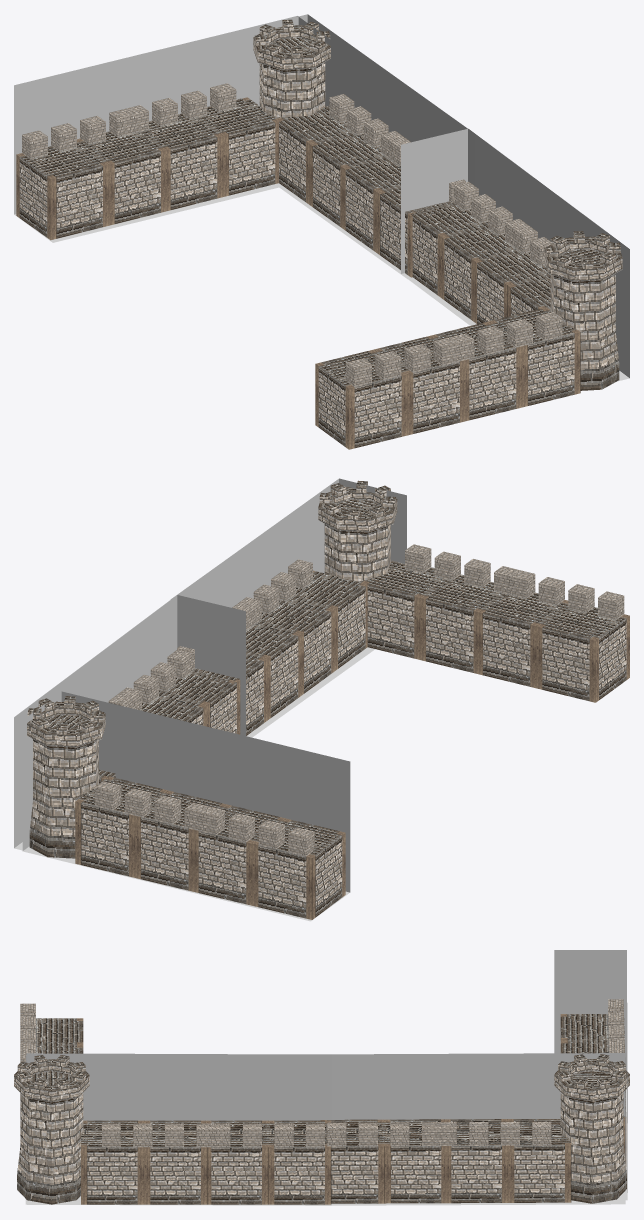
Rendered from wall_large_tower_Uglb.glb.
The picture shows the model from 3 angles, top to bottom: view 1: azimuth 30°, elevation 25°; view 2: azimuth 150°, elevation 25°; view 3: azimuth 270°, elevation 25°; orthographic projection. The views are drawn at different scales.
Visible parts, largest first — view 1: Wall_Tower-colonly.002, Wall_Tower-colonly.001, Wall_Tower-colonly.003, Wall_Right_1.002, Wall_Left_0.001, Tower_Base, Wall_Right_1.003, Wall_Right_0.003, Wall_Right_0.002, Wall_Left_1, Wall_Left_0, Wall_Left_1.001 (+24 smaller); view 2: Wall_Tower-colonly.002, Wall_Tower-colonly.003, Wall_Tower-colonly.001, Wall_Left_0.001, Wall_Right_1.002, Tower_Base.001, Wall_Left_0, Wall_Left_1.001, Wall_Left_1, Wall_Right_0.003, Wall_Right_0.002, Wall_Right_1.003 (+23 smaller); view 3: Wall_Tower-colonly.001, Wall_Tower-colonly.003, Tower_Base, Tower_Base.001, Wall_Tower-colonly.002, Wall_Right_0, Wall_Right_1, Wall_Left_1.003, Wall_Right_1.001, Wall_Left_0.003, Wall_Left_1.002, Wall_Right_0.001 (+23 smaller).
Part boxes in pixels (x1,y1,x2,y2): Wall_Tower-colonly.002: (14,16,336,242); Wall_Tower-colonly.001: (401,129,629,381); Wall_Tower-colonly.003: (241,14,474,279); Wall_Right_1.002: (16,142,108,240); Wall_Left_0.001: (315,349,407,449); Tower_Base: (550,249,619,390); Wall_Right_1.003: (139,113,222,211); Wall_Right_0.003: (197,97,280,196); Wall_Right_0.002: (77,131,166,225); Wall_Left_1: (488,307,580,407); Wall_Left_0: (430,321,521,421); Wall_Left_1.001: (374,336,465,435); Wall_Tower-colonly.002: (22,691,350,921); Wall_Tower-colonly.003: (14,595,245,862); Wall_Tower-colonly.001: (170,478,406,737); Wall_Left_0.001: (536,603,629,702); Wall_Right_1.002: (252,818,345,919); Tower_Base.001: (29,714,98,858); Wall_Left_0: (420,574,504,674); Wall_Left_1.001: (477,592,568,688); Wall_Left_1: (361,560,445,659); Wall_Right_0.003: (75,776,168,877); Wall_Right_0.002: (192,805,285,905); Wall_Right_1.003: (135,790,227,891); Wall_Tower-colonly.001: (25,1053,332,1205); Wall_Tower-colonly.003: (320,1053,625,1205); Tower_Base: (17,1071,83,1204); Tower_Base.001: (560,1070,626,1203); Wall_Tower-colonly.002: (554,950,627,1200); Wall_Right_0: (81,1120,143,1204); Wall_Right_1: (144,1120,207,1204); Wall_Left_1.003: (507,1119,571,1202); Wall_Right_1.001: (268,1120,331,1204); Wall_Left_0.003: (444,1119,507,1203); Wall_Left_1.002: (384,1119,447,1203); Wall_Right_0.001: (205,1120,268,1204).
Size of what is drawn, in the model's own units: 10.14 by 4.22 by 19.53.
60 materials, 60 textured.
